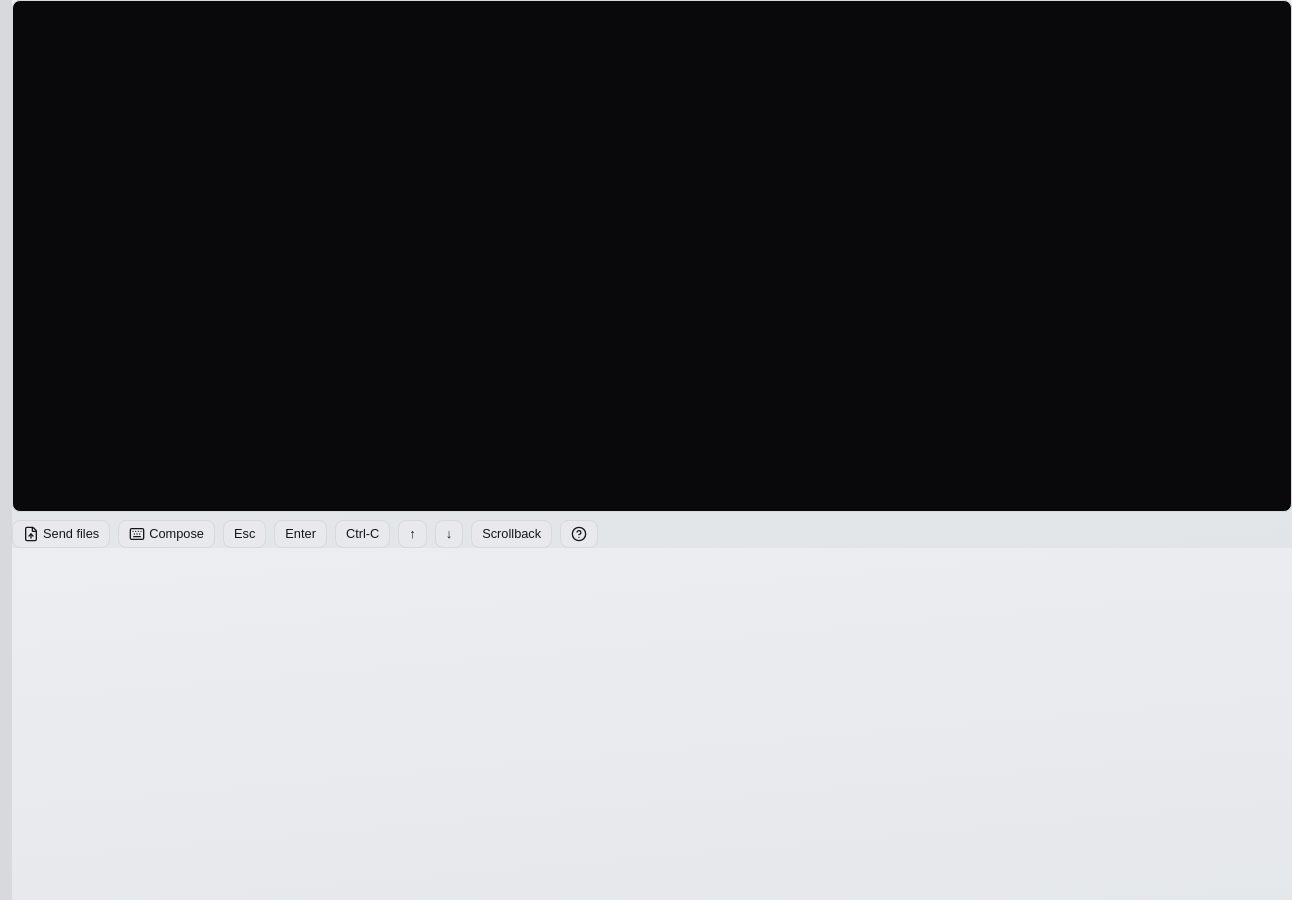
TuiScreen › scrollback › scrollback case 3b: Exit scrollback clears the visible status
Click the button "Scrollback".
click(512, 534)  # box [471, 520, 552, 548]
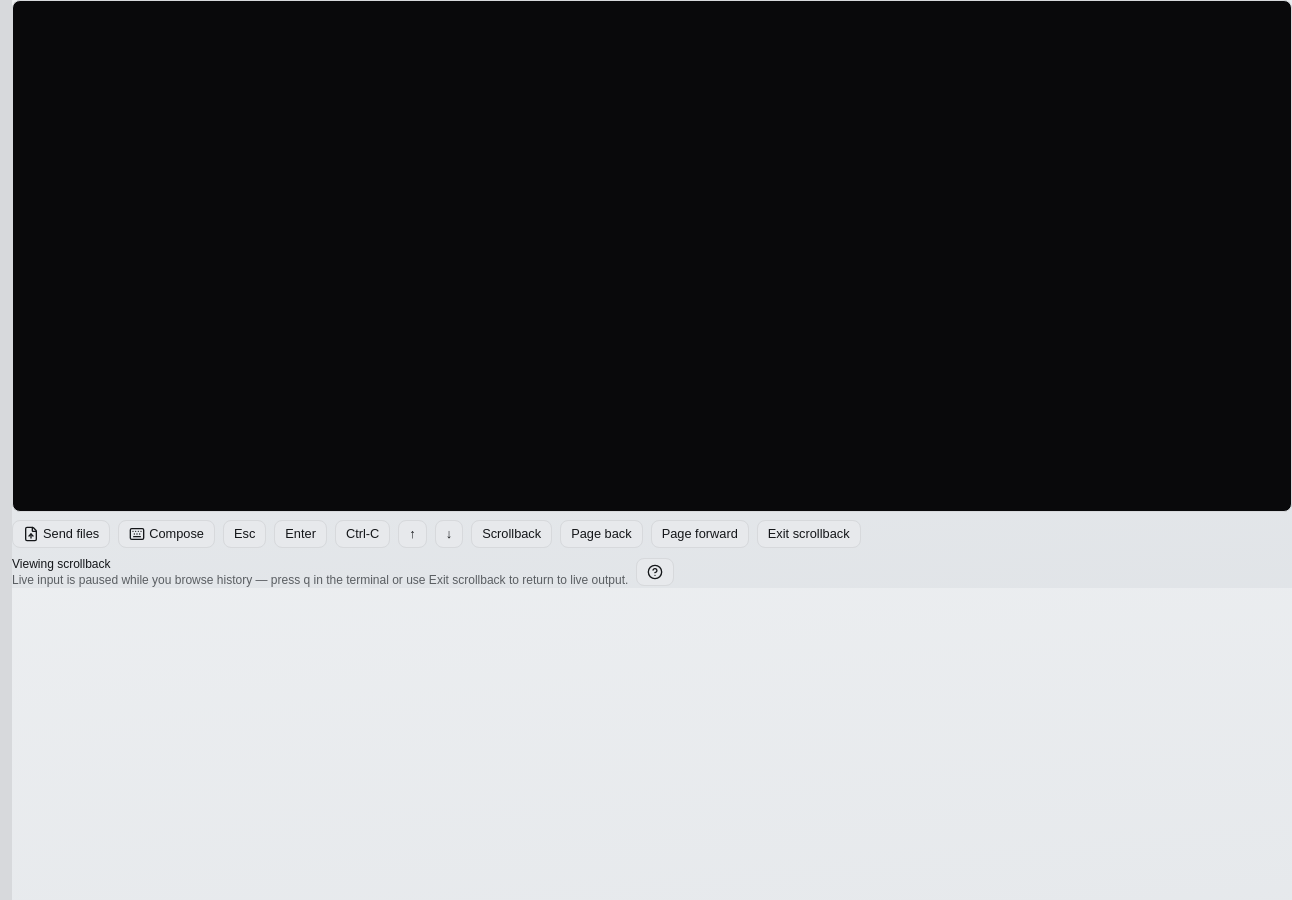
Click the button "Exit scrollback".
click(809, 534)  # box [757, 520, 861, 548]
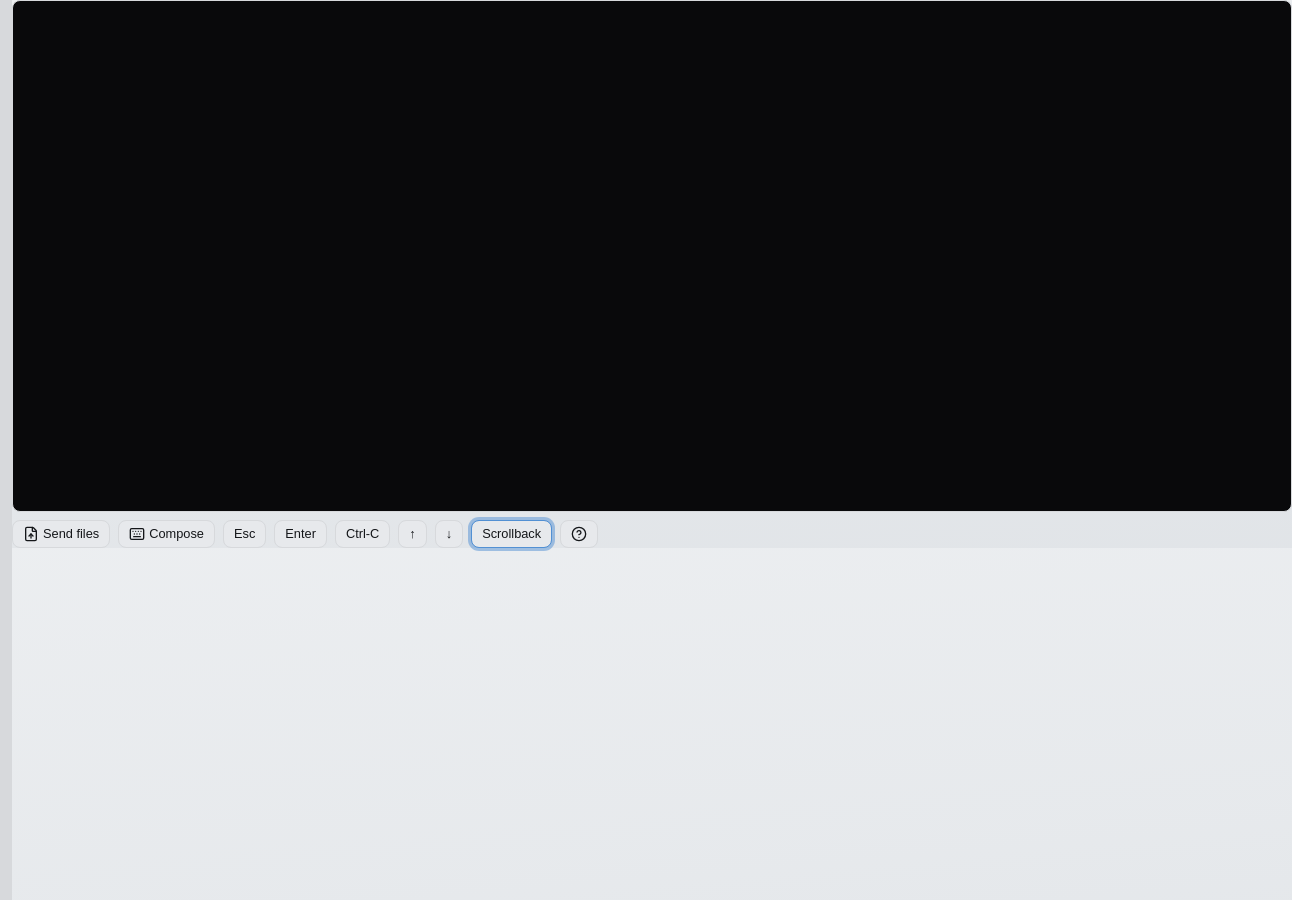
Now the text "Viewing scrollback" is gone
